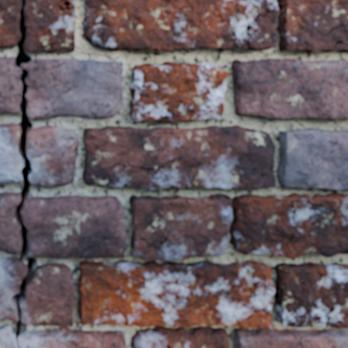brick: (78, 193, 347, 347), (83, 0, 347, 51), (83, 126, 275, 190), (232, 59, 347, 119), (130, 62, 227, 121), (277, 129, 347, 189)
broken_brick: (19, 262, 127, 347), (24, 195, 126, 259), (22, 58, 123, 119), (0, 191, 26, 322), (28, 125, 79, 186), (25, 0, 75, 53), (0, 123, 21, 183), (0, 56, 20, 114), (0, 0, 19, 48), (0, 323, 16, 347)
crack: (2, 0, 42, 347), (216, 8, 241, 48), (245, 5, 267, 49), (36, 41, 75, 49), (324, 23, 347, 36), (333, 40, 347, 47), (36, 323, 45, 325), (266, 293, 272, 296)
